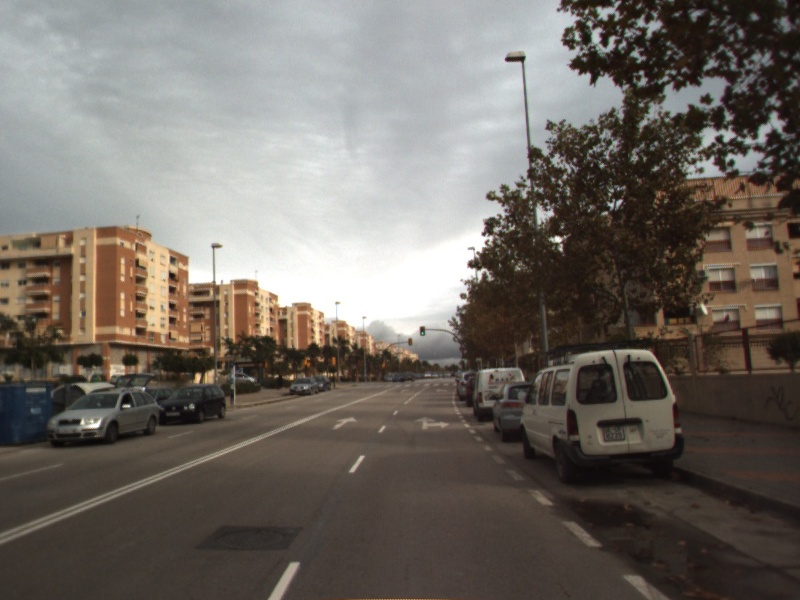STRAIGHT: (330, 415, 359, 432)
STRAIGHT_RIGHT: (412, 414, 452, 431)
